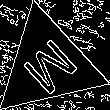M_SE: (14, 31, 81, 99)
